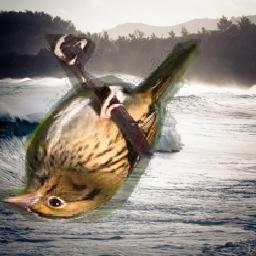Sparrow: (0, 34, 201, 222)
